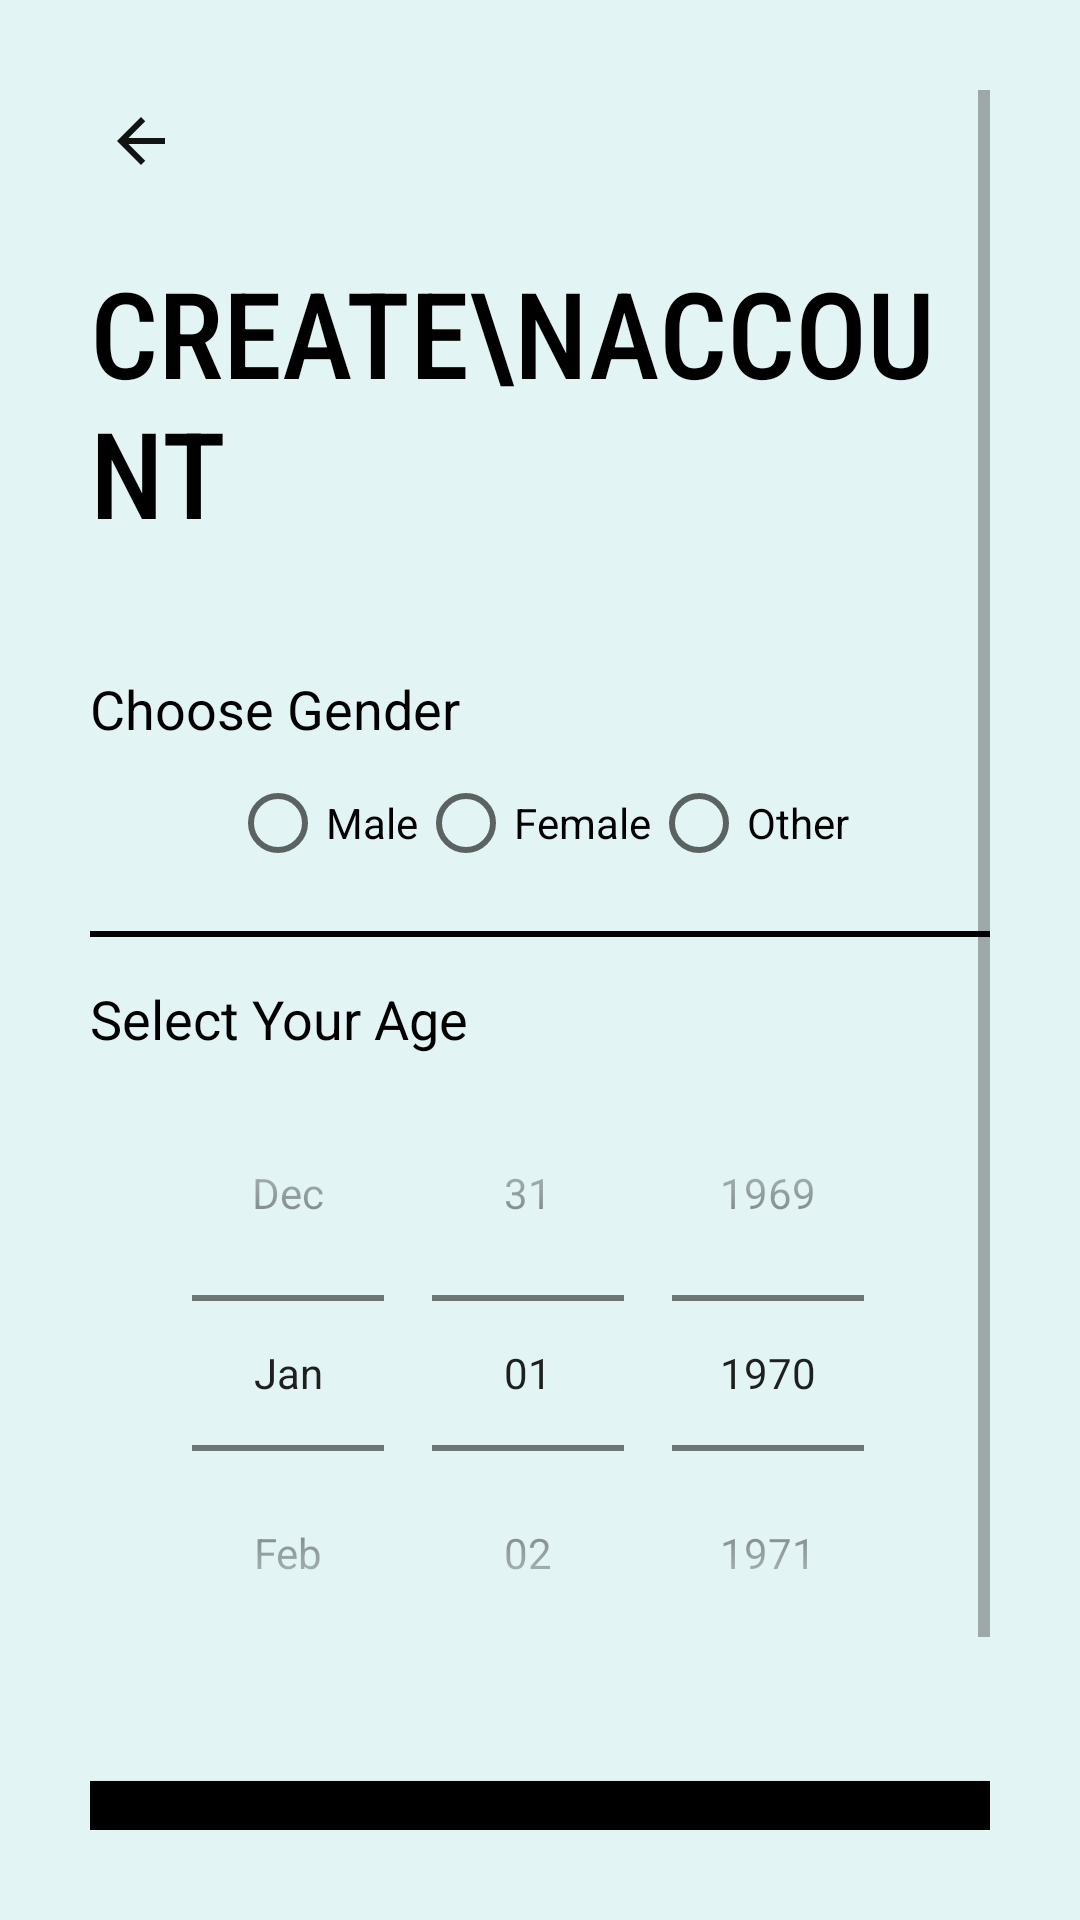

Named icons in this screenshot (1080px x 1920px) and their centers, [x,y]:
login back: [141,141]
